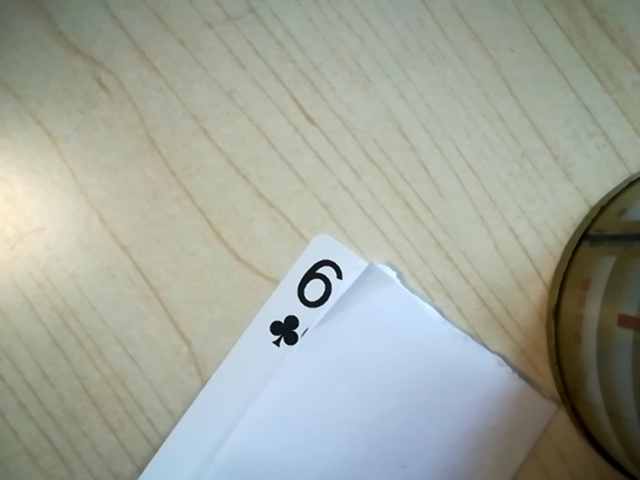mh 6: (264, 253, 357, 353)
